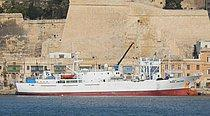Ship: (14, 68, 205, 100)
